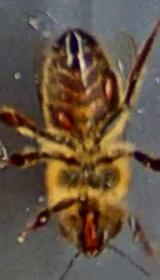varroa_mite: (90, 58, 138, 112), (43, 101, 89, 142)
